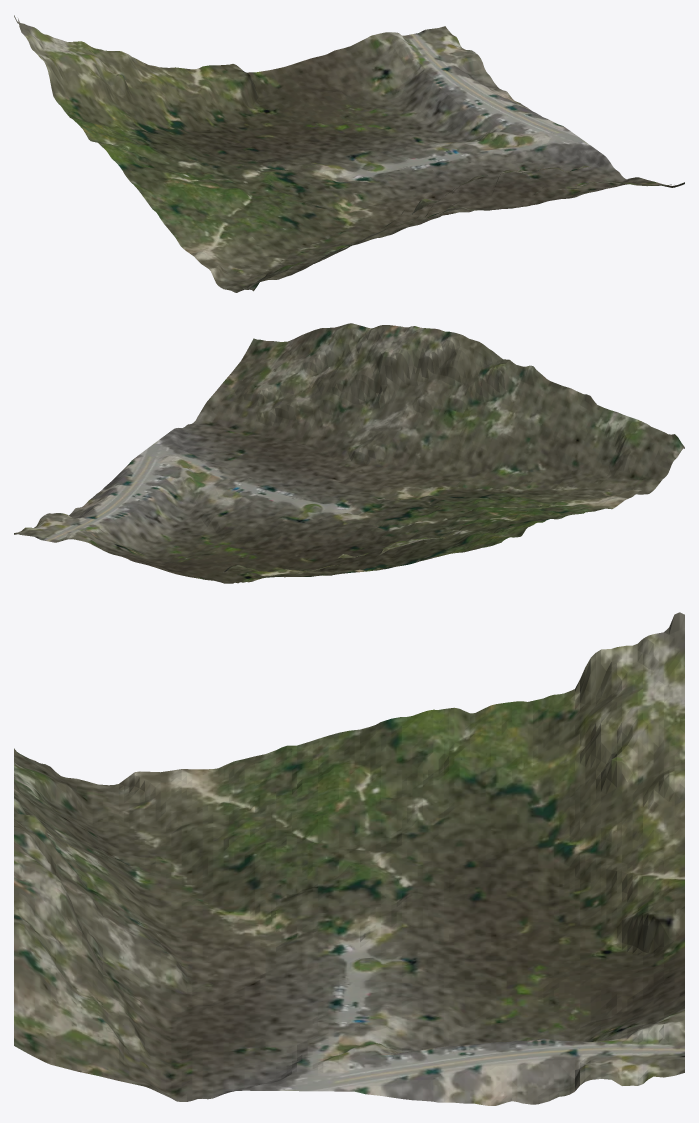
The picture shows the model from 3 angles, top to bottom: view 1: azimuth 30°, elevation 25°; view 2: azimuth 150°, elevation 25°; view 3: azimuth 270°, elevation 25°; orthographic projection. The views are drawn at different scales.
Size of the model in its own units: 250 by 79.83 by 241.
1 material, 1 textured.
